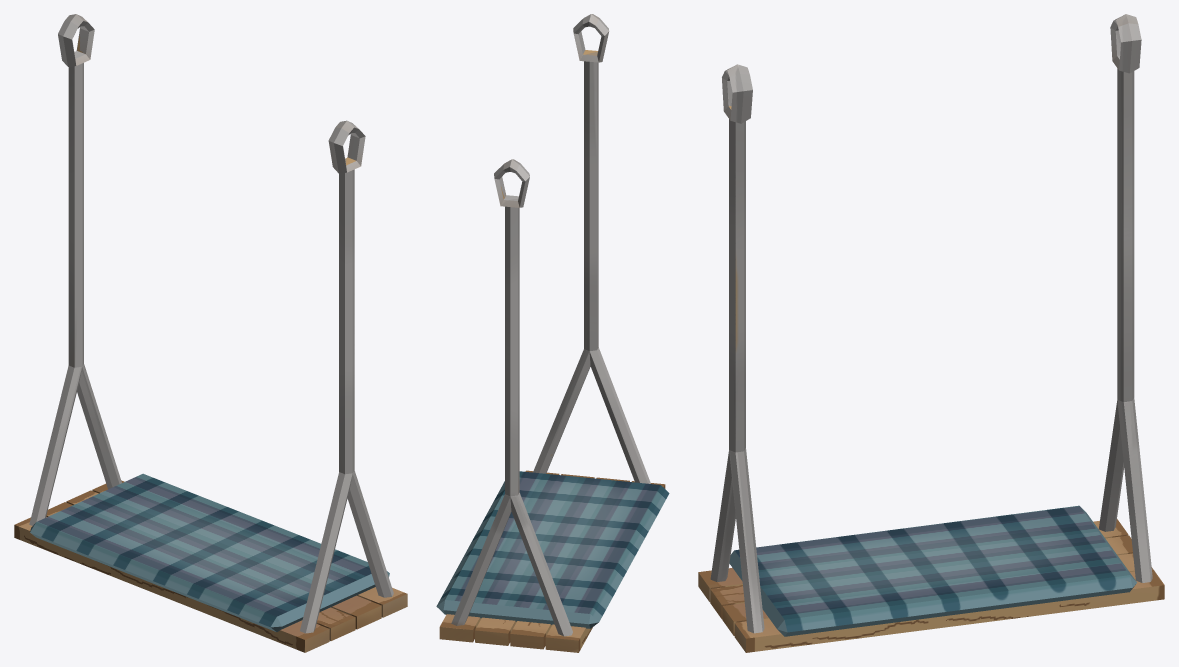
The model's file is swingcushionfbx.fbx.
The picture shows the model from 3 angles, left to right: view 1: azimuth 30°, elevation 25°; view 2: azimuth 150°, elevation 25°; view 3: azimuth 270°, elevation 25°; orthographic projection. The views are drawn at different scales.
Parts seen in each view (by area): view 1: swing cushion; view 2: swing cushion; view 3: swing cushion.
Part boxes in pixels (bbox=[...]): swing cushion: bbox=[14, 14, 407, 652]; swing cushion: bbox=[436, 14, 669, 652]; swing cushion: bbox=[698, 14, 1164, 652].
Bounding box in the file's own units: 193 × 408 × 311.
